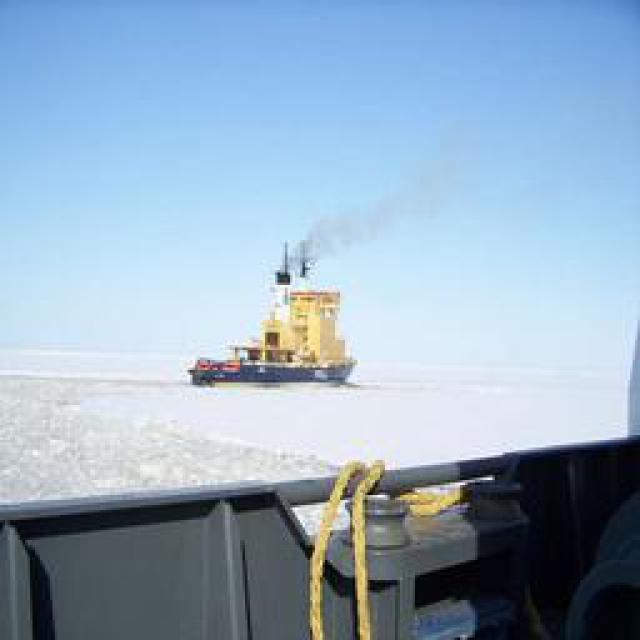Ship: (189, 250, 359, 390)
